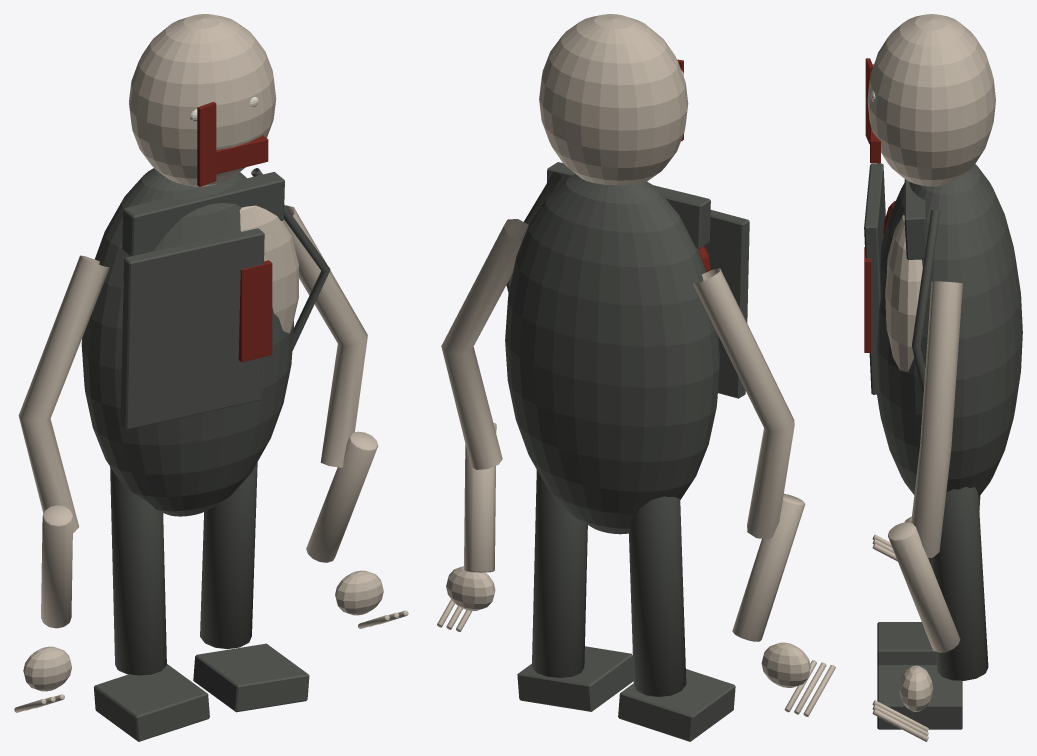
File: dz_enemy_walker_male_B.glb
3 views of the same model, side by side, from view 1: azimuth 30°, elevation 25°; view 2: azimuth 150°, elevation 25°; view 3: azimuth 270°, elevation 25° (orthographic). The views are drawn at different scales.
Visible parts, largest first — view 1: dz_torso_core, dz_shredded_jacket_panel, dz_head_forward, dz_limb_leg_L, dz_limb_arm_L, dz_limb_leg_R, dz_limb_arm_R, dz_foot_drag_L, dz_foot_drag_R, dz_torn_collar_male, dz_limb_forearm_R, dz_limb_forearm_L (+7 smaller); view 2: dz_torso_core, dz_head_forward, dz_limb_leg_L, dz_limb_leg_R, dz_limb_arm_L, dz_limb_arm_R, dz_foot_drag_L, dz_foot_drag_R, dz_limb_forearm_L, dz_shredded_jacket_panel, dz_limb_forearm_R, dz_torn_collar_male (+2 smaller); view 3: dz_torso_core, dz_head_forward, dz_limb_arm_R, dz_limb_leg_R, dz_limb_forearm_R, dz_chest_infected_growth, dz_foot_drag_R, dz_shredded_jacket_panel, dz_foot_drag_L, dz_variant_B_loose_cable_or_hair, dz_torn_collar_male, dz_hand_claw_R (+6 smaller).
Part boxes in pixels (left/top/right/bottom): dz_torso_core: left=81, top=168, right=293, bottom=516; dz_shredded_jacket_panel: left=120, top=228, right=264, bottom=429; dz_head_forward: left=129, top=14, right=276, bottom=186; dz_limb_leg_L: left=110, top=467, right=166, bottom=675; dz_limb_arm_L: left=18, top=255, right=109, bottom=532; dz_limb_leg_R: left=200, top=462, right=257, bottom=649; dz_limb_arm_R: left=282, top=205, right=367, bottom=467; dz_foot_drag_L: left=94, top=664, right=209, bottom=741; dz_foot_drag_R: left=193, top=643, right=309, bottom=712; dz_torn_collar_male: left=122, top=171, right=284, bottom=256; dz_limb_forearm_R: left=306, top=431, right=378, bottom=562; dz_limb_forearm_L: left=41, top=505, right=73, bottom=628; dz_torso_core: left=505, top=174, right=719, bottom=534; dz_head_forward: left=539, top=14, right=688, bottom=185; dz_limb_leg_L: left=628, top=496, right=686, bottom=696; dz_limb_leg_R: left=532, top=470, right=587, bottom=677; dz_limb_arm_L: left=693, top=268, right=794, bottom=539; dz_limb_arm_R: left=441, top=219, right=528, bottom=469; dz_foot_drag_L: left=618, top=669, right=735, bottom=741; dz_foot_drag_R: left=517, top=646, right=633, bottom=711; dz_limb_forearm_L: left=732, top=493, right=805, bottom=641; dz_shredded_jacket_panel: left=704, top=210, right=749, bottom=398; dz_limb_forearm_R: left=464, top=422, right=496, bottom=572; dz_torn_collar_male: left=547, top=162, right=710, bottom=248; dz_torso_core: left=877, top=164, right=1022, bottom=496; dz_head_forward: left=867, top=14, right=995, bottom=186; dz_limb_arm_R: left=911, top=281, right=962, bottom=557; dz_limb_leg_R: left=930, top=487, right=988, bottom=680; dz_limb_forearm_R: left=888, top=522, right=960, bottom=652; dz_chest_infected_growth: left=885, top=215, right=922, bottom=371; dz_foot_drag_R: left=877, top=665, right=962, bottom=729; dz_shredded_jacket_panel: left=864, top=163, right=885, bottom=394; dz_foot_drag_L: left=877, top=622, right=936, bottom=665; dz_variant_B_loose_cable_or_hair: left=911, top=210, right=939, bottom=398; dz_torn_collar_male: left=904, top=179, right=927, bottom=259; dz_hand_claw_R: left=899, top=665, right=933, bottom=711.
Size of what is drawn, in the model's own units: 1.08 by 1.92 by 0.4096.
